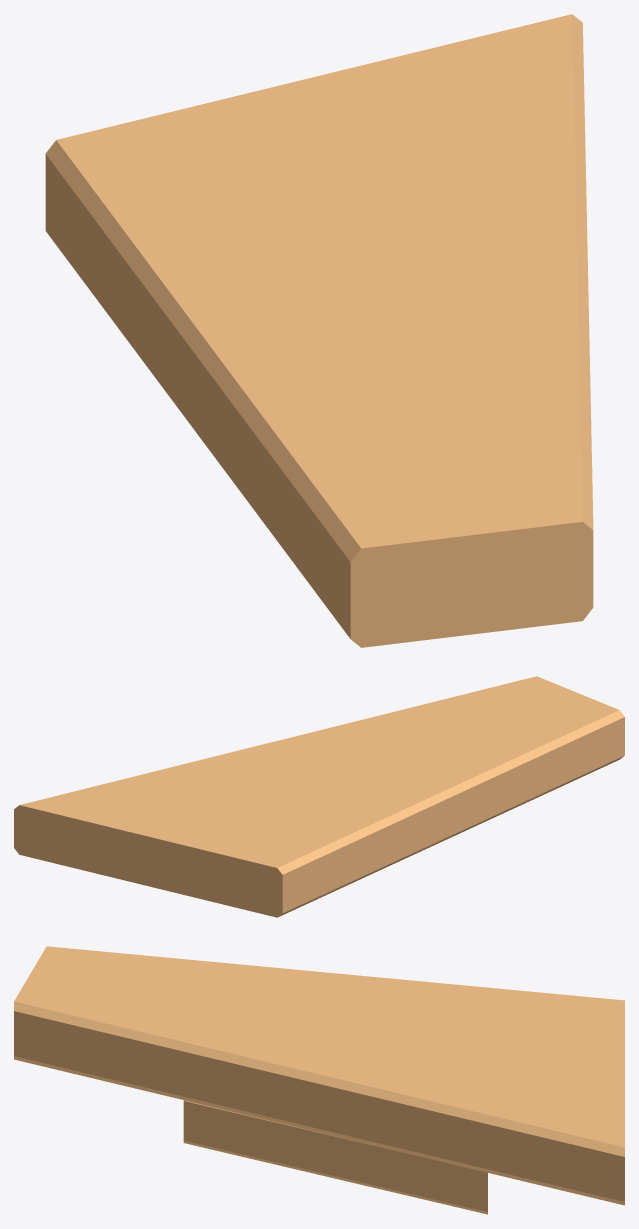
Rendered from stufe 4.fbx.
The picture shows the model from 3 angles, top to bottom: view 1: azimuth 30°, elevation 25°; view 2: azimuth 150°, elevation 25°; view 3: azimuth 270°, elevation 25°; orthographic projection. The views are drawn at different scales.
Visible parts, largest first — view 1: stufe 4; view 2: stufe 4; view 3: stufe 4.
Boxes of the visible parts, x1,y1,x2,y2 form: stufe 4: [45, 14, 593, 647]; stufe 4: [14, 676, 624, 917]; stufe 4: [14, 946, 624, 1214].
Size of the model in its own units: 139 by 32.56 by 173.
